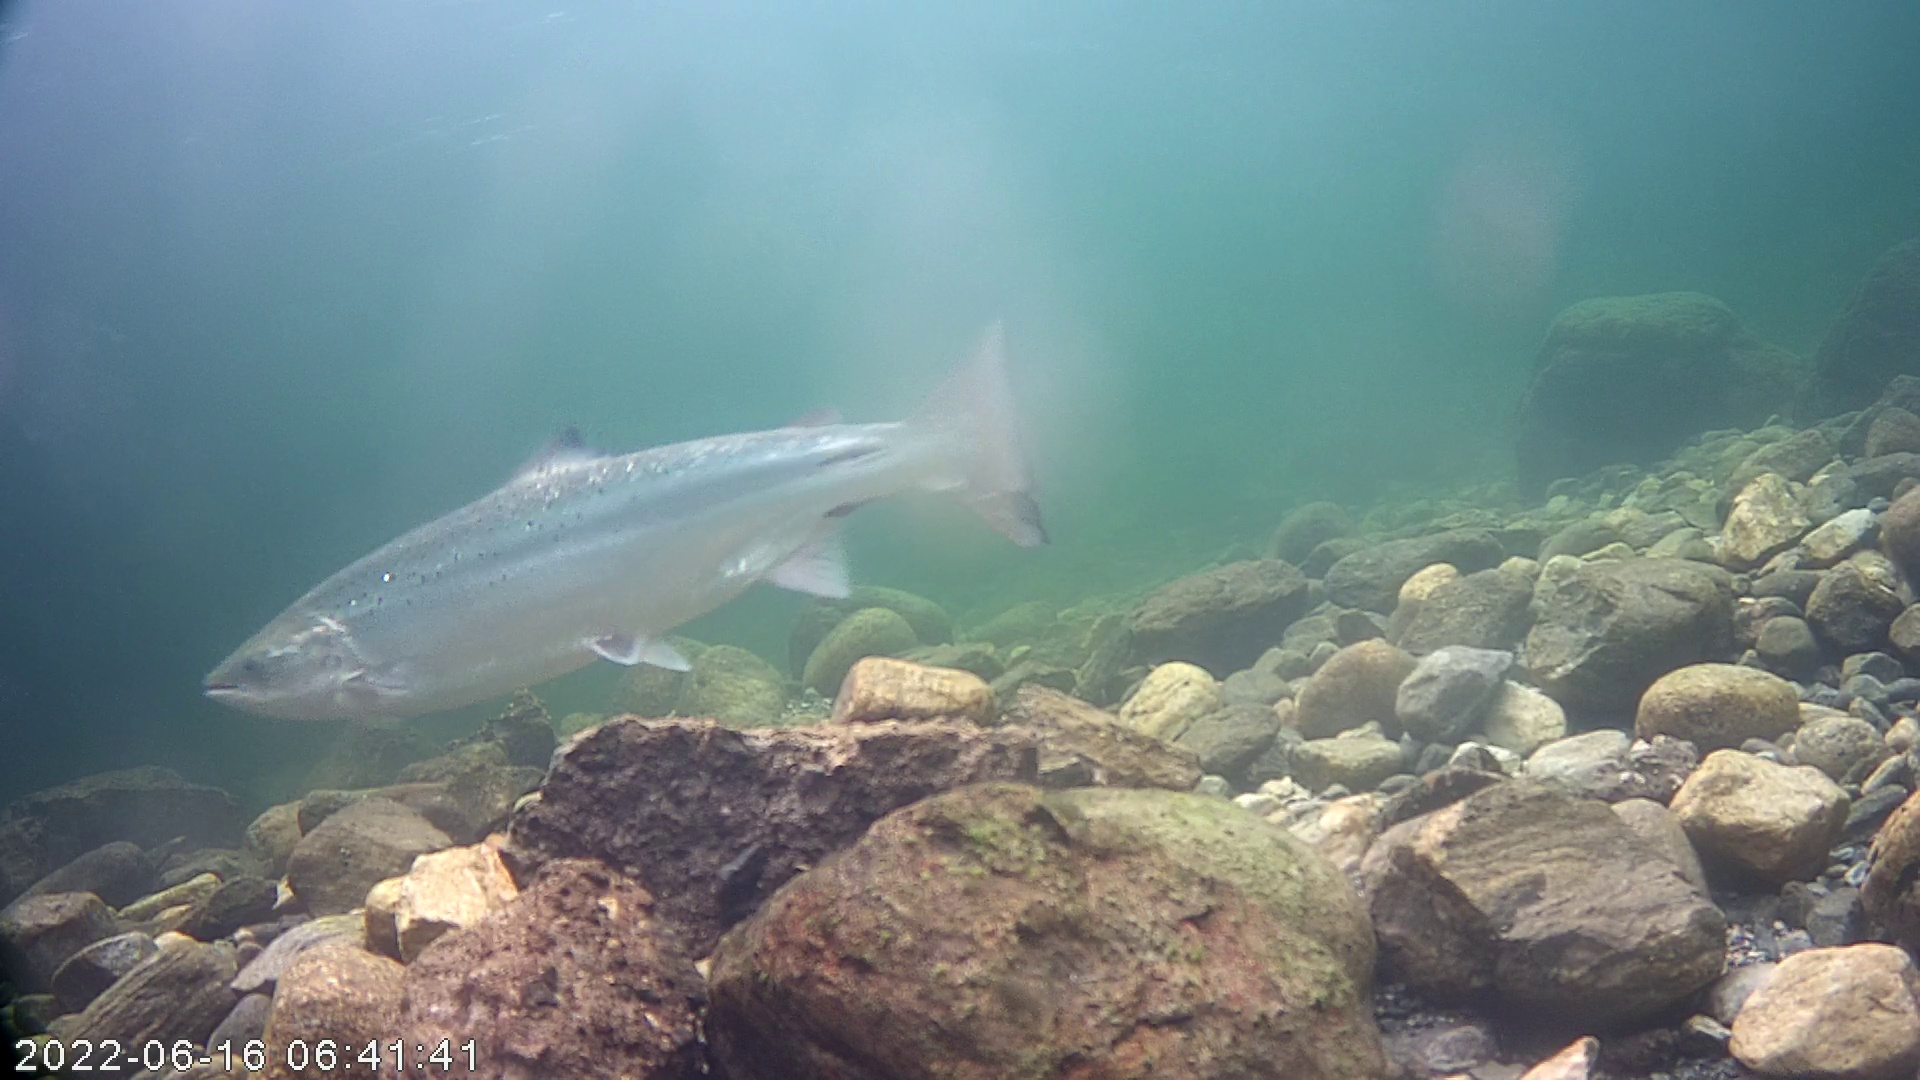salmon: (195, 311, 1055, 728)
